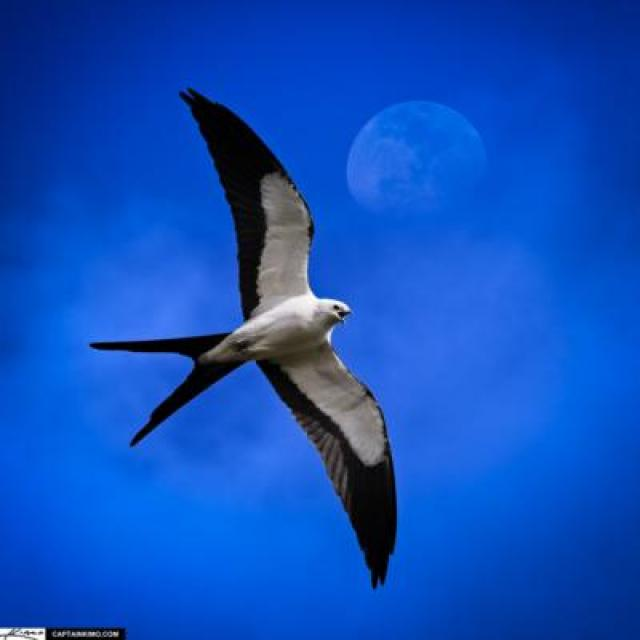birds: (90, 63, 414, 614)
